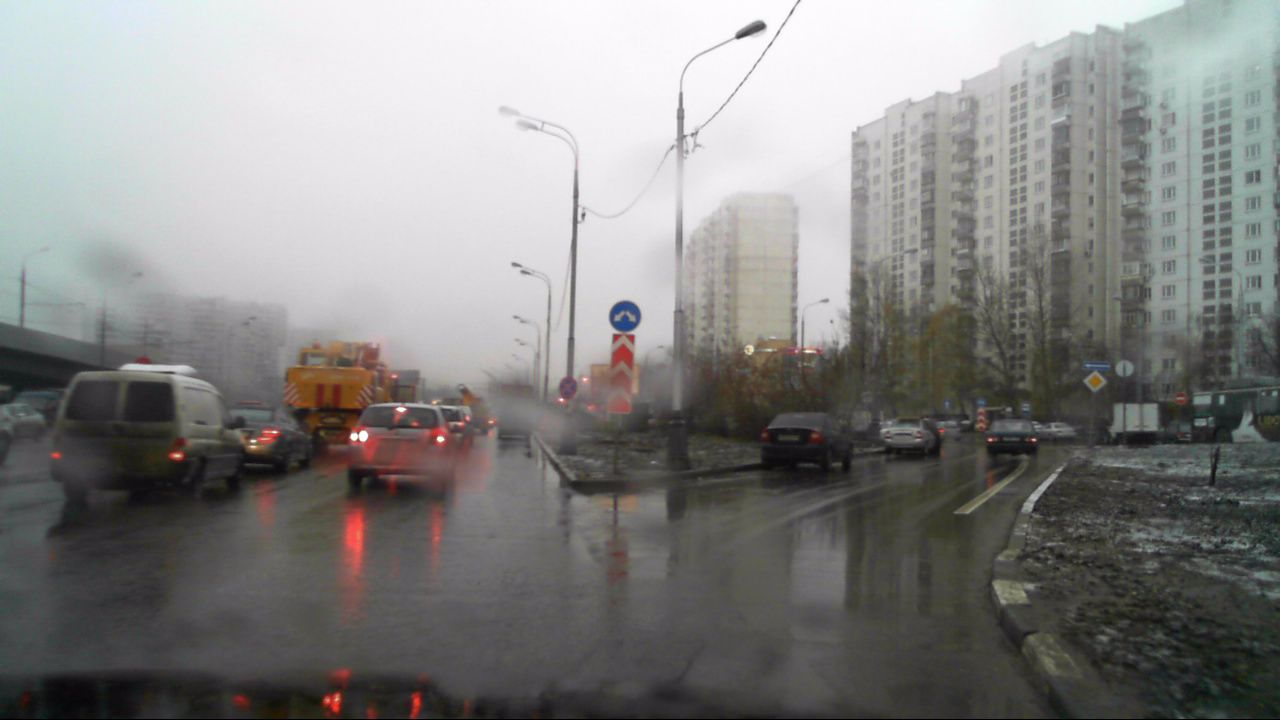No Parking: (559, 376, 577, 399)
